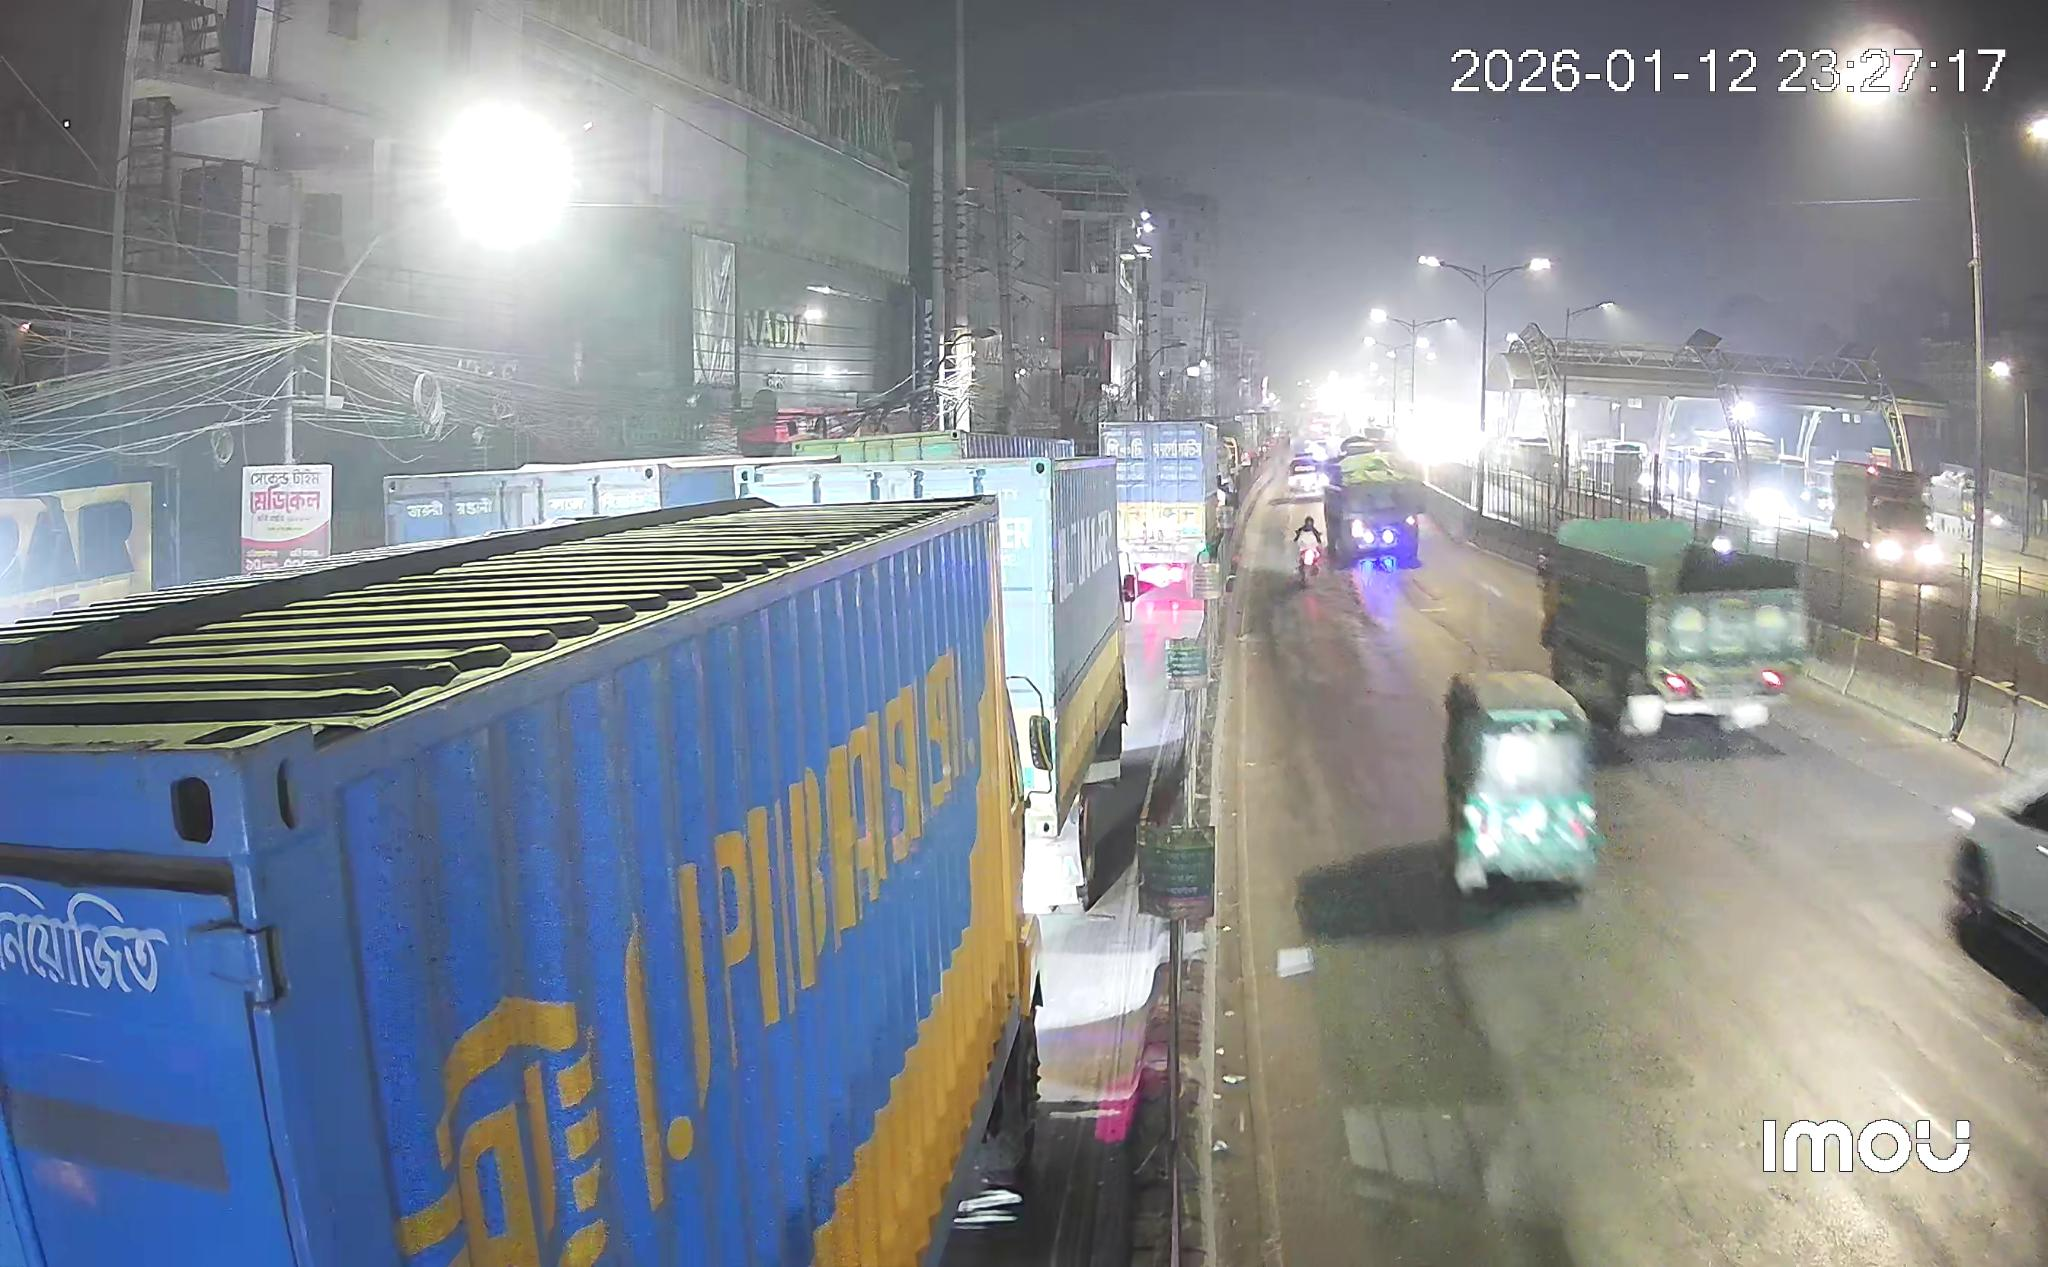CNG-Tempo: (1442, 672, 1605, 892)
Motorcycle: (1293, 518, 1322, 585)
Private-Sedan Car: (1951, 772, 2047, 947)
Truck: (0, 497, 1040, 1267), (742, 456, 1126, 911), (1539, 519, 1807, 736), (1100, 420, 1219, 594), (1831, 458, 1953, 581), (1322, 455, 1420, 569)
